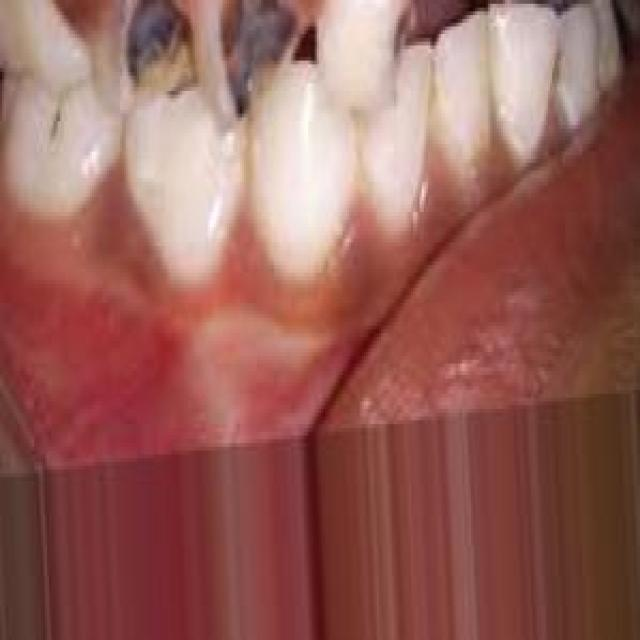caries: (207, 0, 297, 140), (101, 0, 199, 126), (367, 0, 424, 111)
